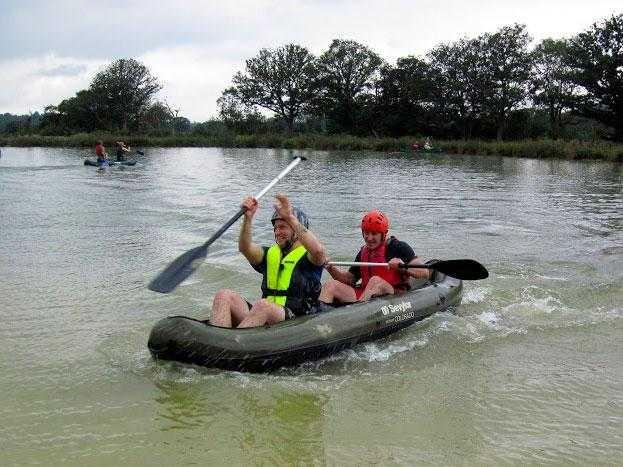kayak: (148, 267, 468, 375), (94, 142, 107, 167)
